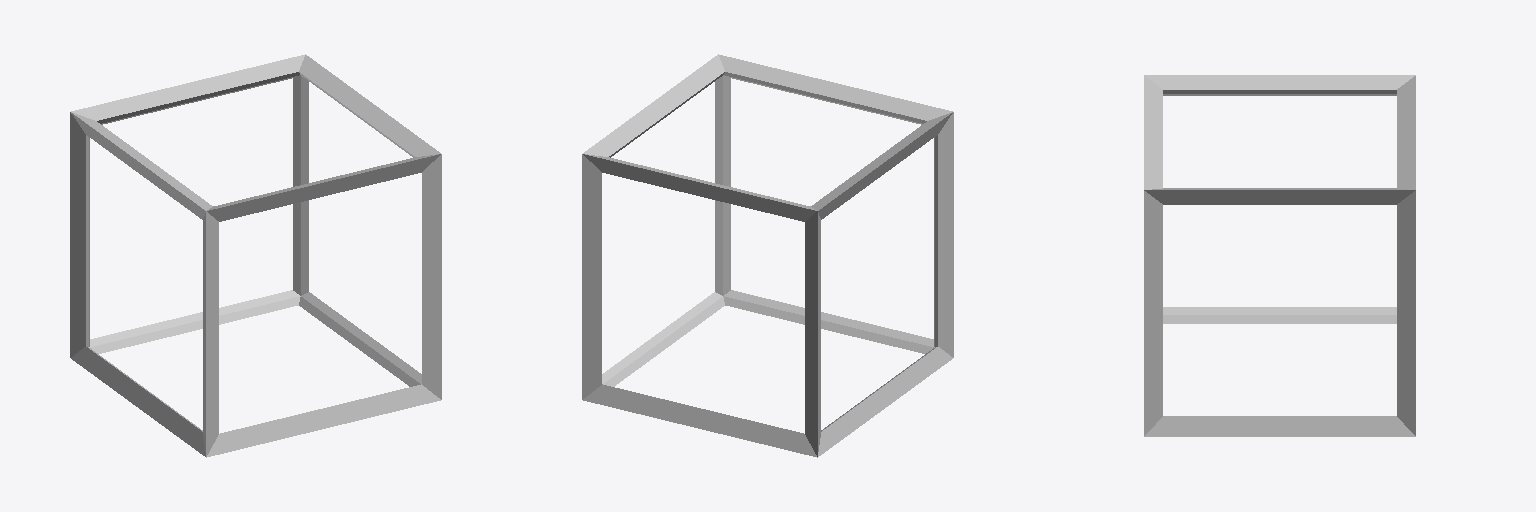
File: selector 3.obj
The picture shows the model from 3 angles: view 1: azimuth 30°, elevation 25°; view 2: azimuth 150°, elevation 25°; view 3: azimuth 270°, elevation 25°; orthographic projection.
Parts seen in each view (by area): view 1: Cube.001_Cube.002; view 2: Cube.001_Cube.002; view 3: Cube.001_Cube.002.
Part boxes in pixels (x1,y1,x2,y2): Cube.001_Cube.002: (70,54,441,457); Cube.001_Cube.002: (582,54,953,457); Cube.001_Cube.002: (1144,75,1415,436).
Bounding box in the file's own units: 1.12 × 1.12 × 1.12.